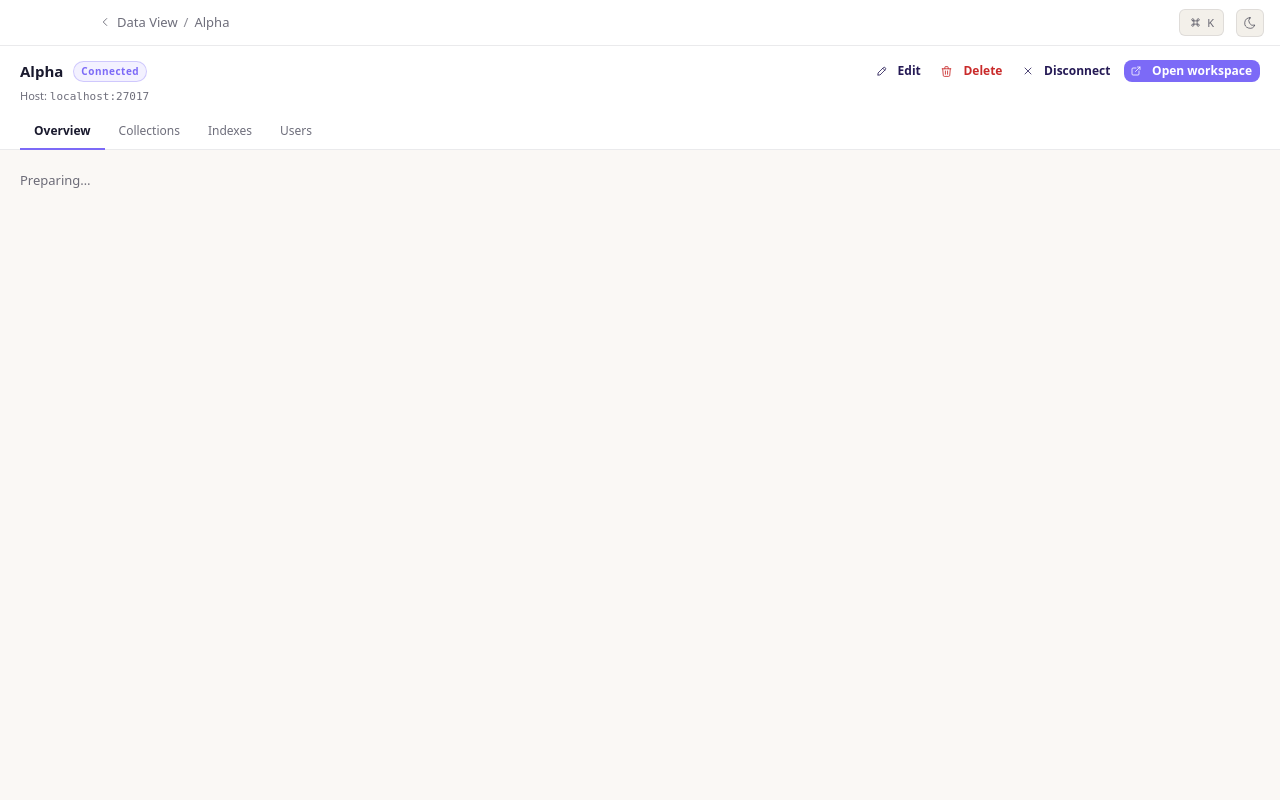
Test case: ConnectionManager deep detail screen › cancelling the Disconnect confirmation disconnects nothing and closes no tabs
Click the button "Disconnect": (1067, 71) left=1016, top=60, right=1118, bottom=82
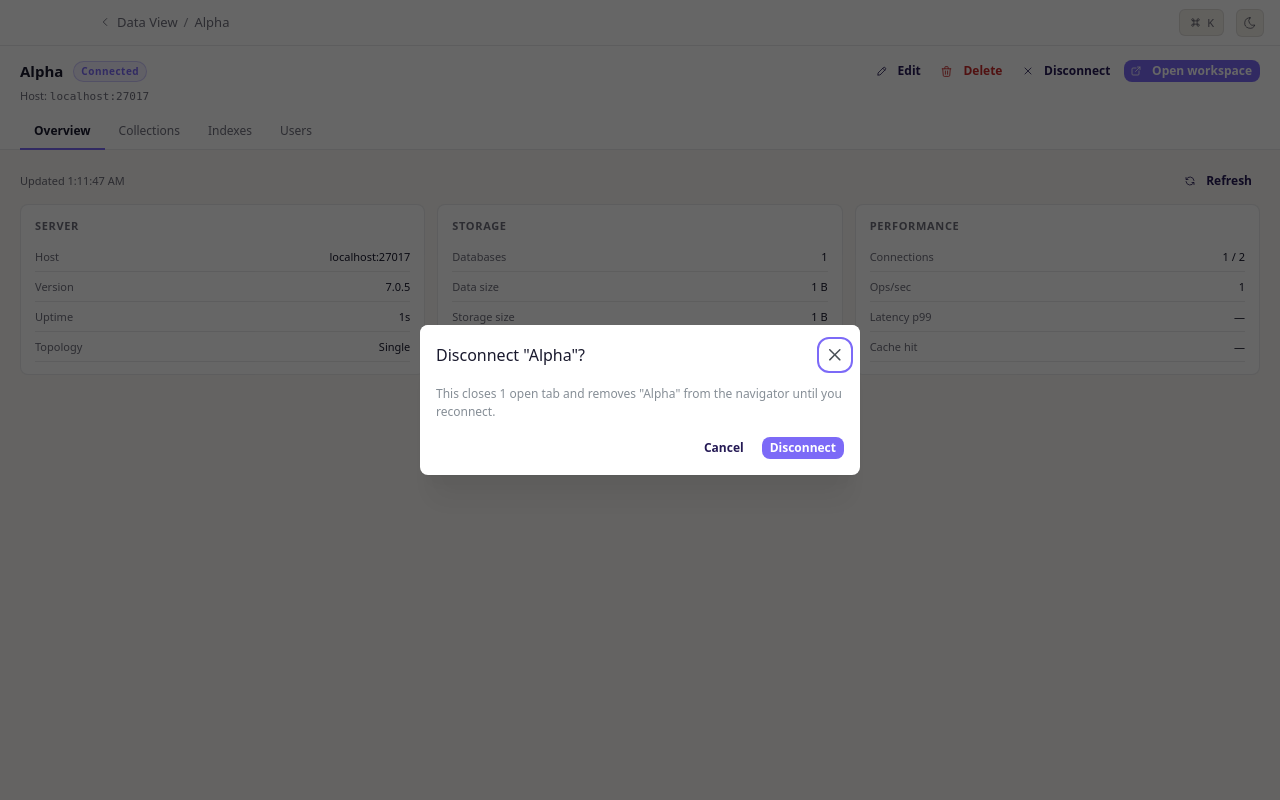
Click the button "Cancel": (724, 448) left=696, top=437, right=752, bottom=459
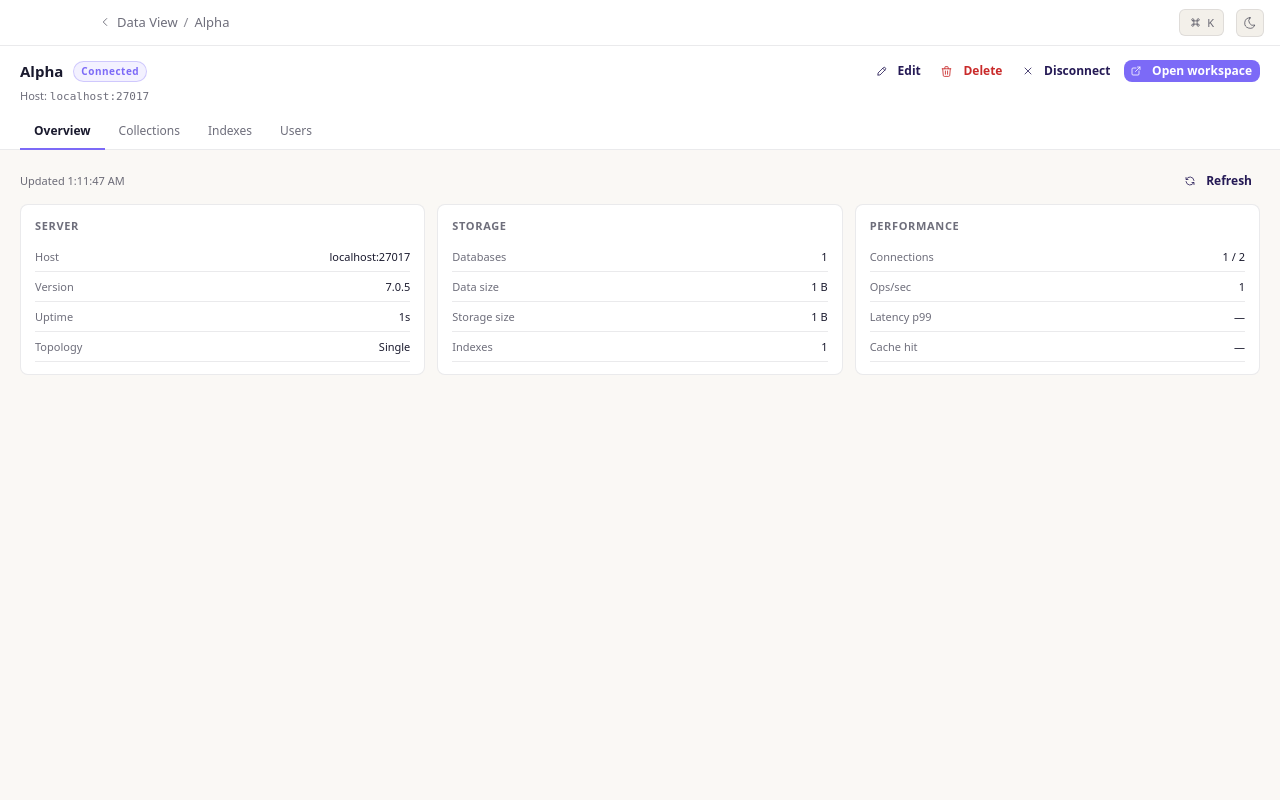
expect the dialog is gone: met
